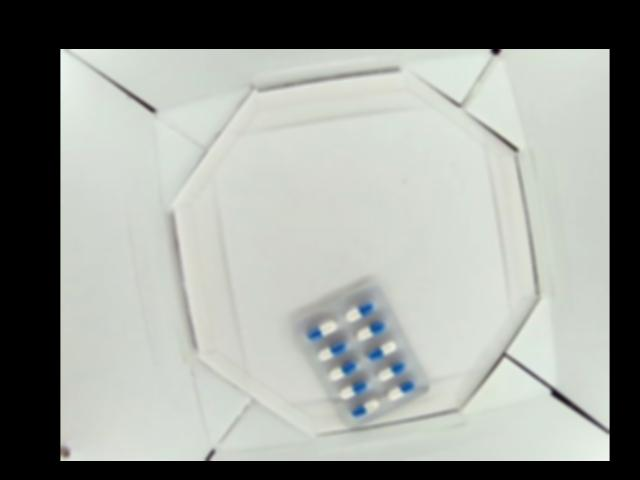Medicine: (292, 282, 431, 431)
